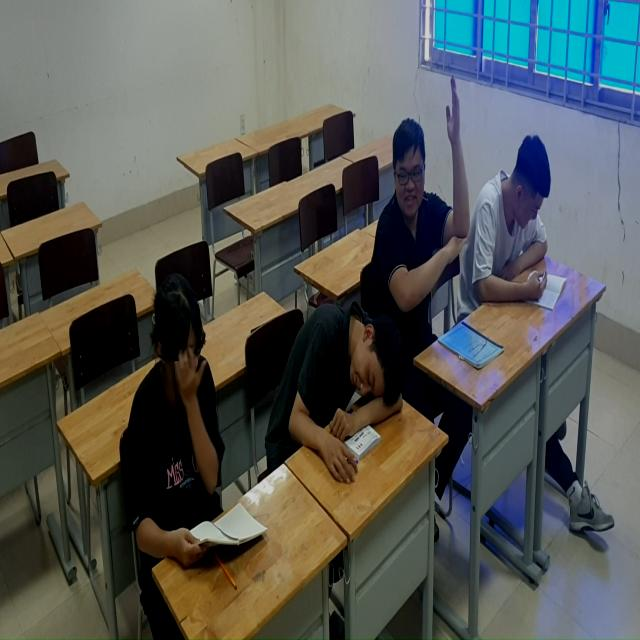raise_hand: (369, 76, 475, 318)
read: (116, 265, 268, 597), (473, 124, 572, 328)
sleep: (267, 286, 413, 493)
